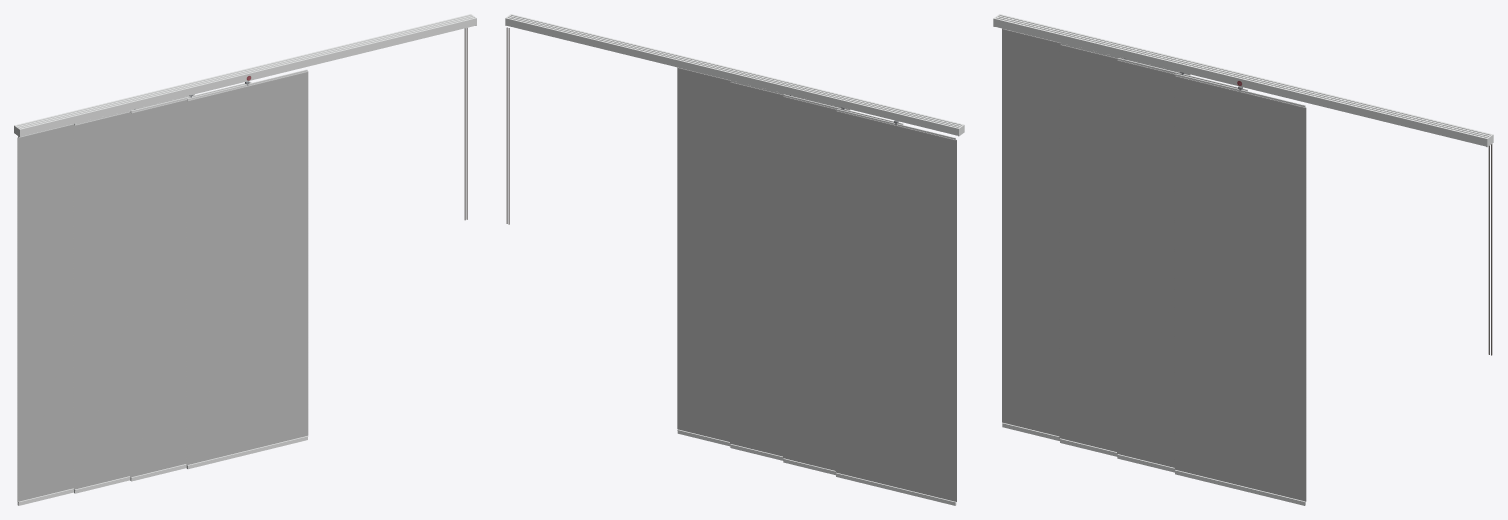
The model's file is after-panel-white-partial.glb.
The picture shows the model from 3 angles, left to right: view 1: azimuth 30°, elevation 25°; view 2: azimuth 150°, elevation 25°; view 3: azimuth 330°, elevation 25°; orthographic projection. The views are drawn at different scales.
Parts seen in each view (by area): view 1: PANEL_TELO_4, PANEL_TELO_2, PANEL_TELO_1, PANEL_TELO_3, PANEL_RAIL_PROFILE_WAY_4, PANEL_RAIL_PROFILE_WAY_2, PANEL_RAIL_PROFILE_WAY_1, PANEL_RAIL_PROFILE_WAY_3, PANEL_BOTTOM_WEIGHT_4; view 2: PANEL_TELO_1, PANEL_TELO_2, PANEL_TELO_3, PANEL_TELO_4, PANEL_RAIL_PROFILE_WAY_1, PANEL_RAIL_PROFILE_WAY_3, PANEL_RAIL_PROFILE_WAY_4, PANEL_RAIL_PROFILE_WAY_2, PANEL_BOTTOM_WEIGHT_1; view 3: PANEL_TELO_4, PANEL_TELO_3, PANEL_TELO_2, PANEL_TELO_1, PANEL_RAIL_PROFILE_WAY_4, PANEL_RAIL_PROFILE_WAY_2, PANEL_RAIL_PROFILE_WAY_1, PANEL_RAIL_PROFILE_WAY_3, PANEL_BOTTOM_WEIGHT_4.
Part boxes in pixels (left/top/right/bottom): PANEL_TELO_4: left=186, top=71, right=308, bottom=465; PANEL_TELO_2: left=73, top=112, right=130, bottom=489; PANEL_TELO_1: left=17, top=124, right=74, bottom=501; PANEL_TELO_3: left=130, top=100, right=186, bottom=477; PANEL_RAIL_PROFILE_WAY_4: left=20, top=18, right=475, bottom=136; PANEL_RAIL_PROFILE_WAY_2: left=17, top=15, right=472, bottom=127; PANEL_RAIL_PROFILE_WAY_1: left=15, top=14, right=470, bottom=126; PANEL_RAIL_PROFILE_WAY_3: left=19, top=16, right=473, bottom=128; PANEL_BOTTOM_WEIGHT_4: left=186, top=436, right=308, bottom=469; PANEL_TELO_1: left=835, top=111, right=956, bottom=501; PANEL_TELO_2: left=783, top=96, right=836, bottom=470; PANEL_TELO_3: left=730, top=82, right=783, bottom=456; PANEL_TELO_4: left=677, top=67, right=730, bottom=441; PANEL_RAIL_PROFILE_WAY_1: left=506, top=17, right=958, bottom=135; PANEL_RAIL_PROFILE_WAY_3: left=509, top=15, right=961, bottom=126; PANEL_RAIL_PROFILE_WAY_4: left=511, top=14, right=963, bottom=125; PANEL_RAIL_PROFILE_WAY_2: left=508, top=16, right=959, bottom=127; PANEL_BOTTOM_WEIGHT_1: left=836, top=472, right=956, bottom=505; PANEL_TELO_4: left=1174, top=76, right=1306, bottom=501; PANEL_TELO_3: left=1117, top=60, right=1175, bottom=467; PANEL_TELO_2: left=1059, top=44, right=1117, bottom=451; PANEL_TELO_1: left=1002, top=28, right=1060, bottom=436; PANEL_RAIL_PROFILE_WAY_4: left=994, top=18, right=1486, bottom=146; PANEL_RAIL_PROFILE_WAY_2: left=998, top=15, right=1490, bottom=136; PANEL_RAIL_PROFILE_WAY_1: left=999, top=14, right=1491, bottom=135; PANEL_RAIL_PROFILE_WAY_3: left=996, top=17, right=1488, bottom=137; PANEL_BOTTOM_WEIGHT_4: left=1174, top=470, right=1305, bottom=505.
Bounding box in the file's own units: 3.02 × 2.4 × 0.088.
5 materials, 2 textured.
